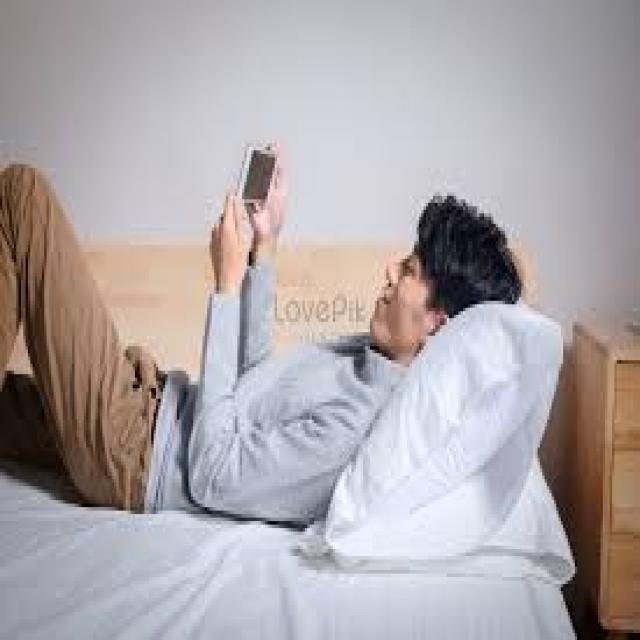Phone: (236, 142, 283, 214)
